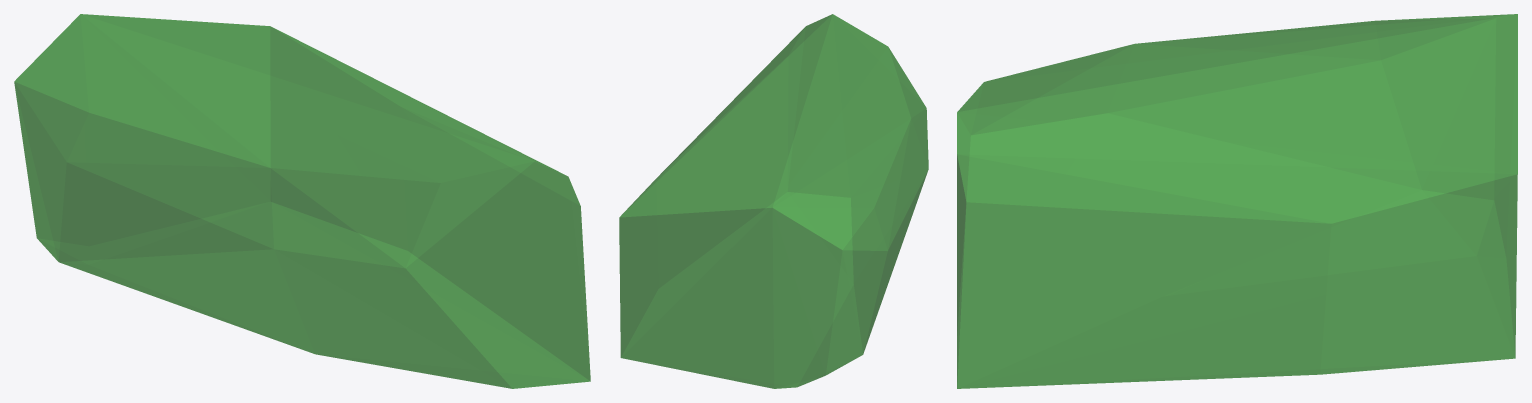
3 views of the same model, side by side, from view 1: azimuth 30°, elevation 25°; view 2: azimuth 150°, elevation 25°; view 3: azimuth 270°, elevation 25° (orthographic). The views are drawn at different scales.
Parts seen in each view (by area): view 1: Shape_IndexedFaceSet.015_Shape_IndexedFaceSet.10840; view 2: Shape_IndexedFaceSet.015_Shape_IndexedFaceSet.10840; view 3: Shape_IndexedFaceSet.015_Shape_IndexedFaceSet.10840.
Boxes of the visible parts, x1,y1,x2,y2 form: Shape_IndexedFaceSet.015_Shape_IndexedFaceSet.10840: (14,14,590,388); Shape_IndexedFaceSet.015_Shape_IndexedFaceSet.10840: (619,14,928,388); Shape_IndexedFaceSet.015_Shape_IndexedFaceSet.10840: (957,14,1517,388).
Bounding box in the file's own units: 0.2756 × 0.1902 × 0.3898.
